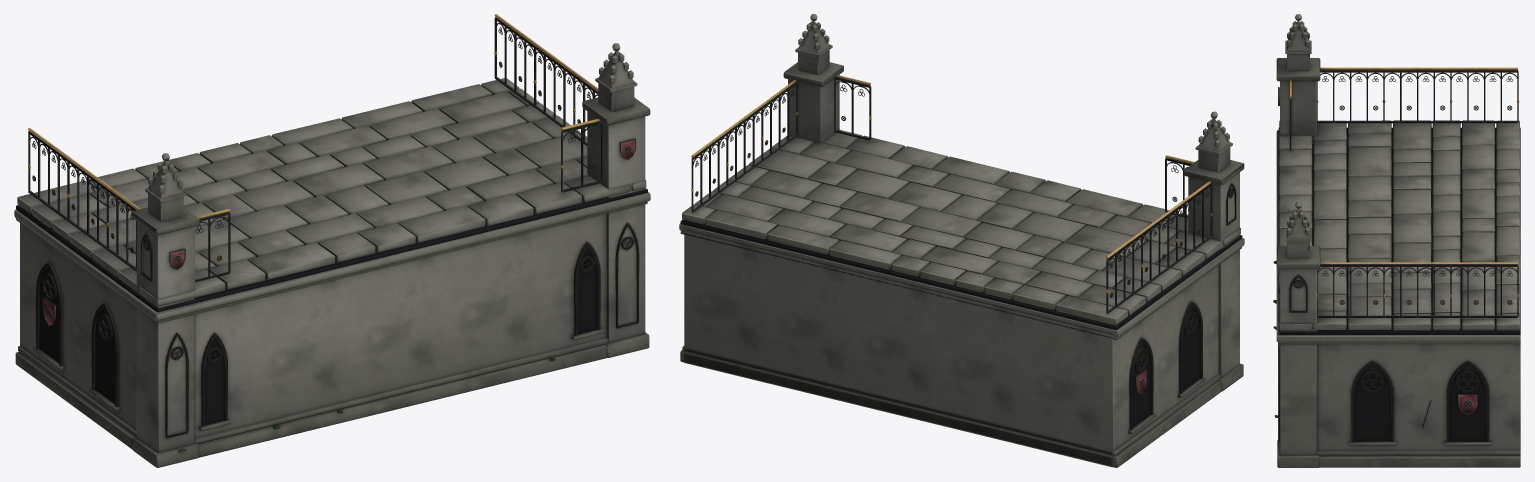
The model's file is EntrancePorch.fbx.
3 views of the same model, side by side, from view 1: azimuth 30°, elevation 25°; view 2: azimuth 150°, elevation 25°; view 3: azimuth 270°, elevation 25° (orthographic). The views are drawn at different scales.
Visible parts, largest first — view 1: EntrancePorch_Main, EntrancePorch_Deck, EntrancePorch_RailLeft, EntrancePorch_RailRight, EntrancePorch_RailFrontR, EntrancePorch_RailFrontL; view 2: EntrancePorch_Main, EntrancePorch_Deck, EntrancePorch_RailLeft, EntrancePorch_RailRight, EntrancePorch_RailFrontR; view 3: EntrancePorch_Deck, EntrancePorch_Main, EntrancePorch_RailLeft, EntrancePorch_RailRight.
Boxes of the visible parts, bbox=[...] form: EntrancePorch_Main: bbox=[20, 43, 650, 467]; EntrancePorch_Deck: bbox=[14, 78, 650, 457]; EntrancePorch_RailLeft: bbox=[28, 128, 140, 271]; EntrancePorch_RailRight: bbox=[494, 14, 598, 145]; EntrancePorch_RailFrontR: bbox=[560, 118, 602, 192]; EntrancePorch_RailFrontL: bbox=[195, 209, 230, 282]; EntrancePorch_Main: bbox=[684, 14, 1244, 467]; EntrancePorch_Deck: bbox=[679, 130, 1244, 467]; EntrancePorch_RailLeft: bbox=[1106, 181, 1212, 313]; EntrancePorch_RailRight: bbox=[691, 80, 798, 212]; EntrancePorch_RailFrontR: bbox=[834, 75, 871, 140]; EntrancePorch_Deck: bbox=[1276, 120, 1520, 467]; EntrancePorch_Main: bbox=[1273, 14, 1520, 467]; EntrancePorch_RailLeft: bbox=[1317, 67, 1519, 123]; EntrancePorch_RailRight: bbox=[1317, 262, 1519, 317].
Size of the model in its own units: 1846 by 1075 by 936.
